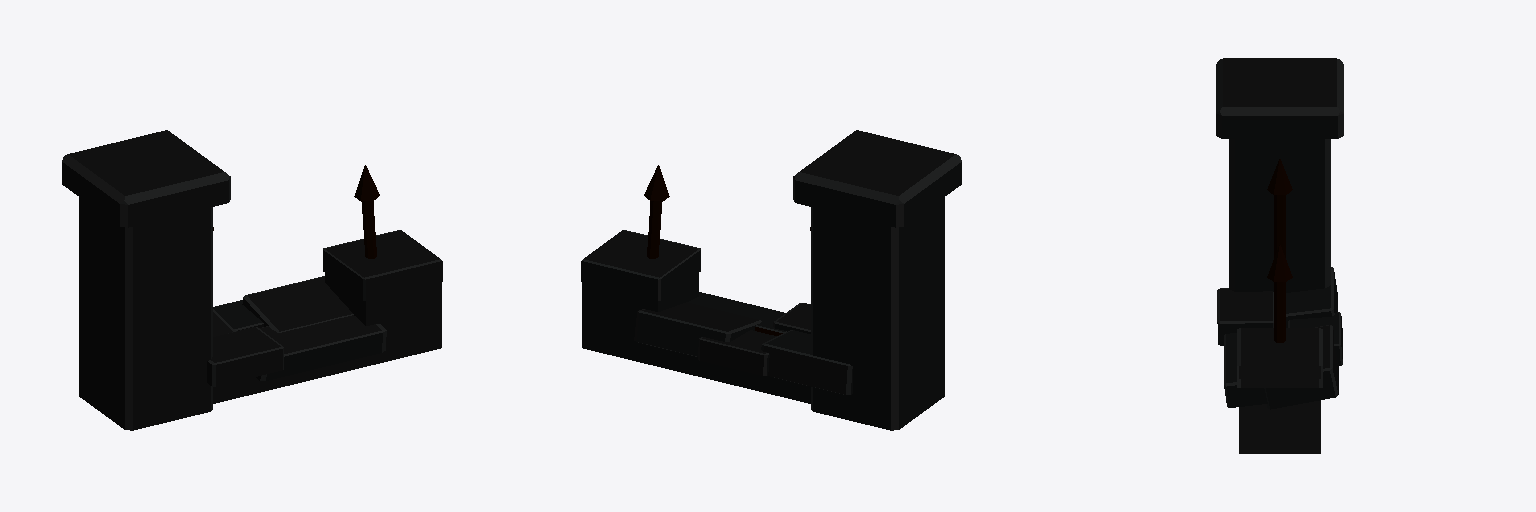
Rendered from Fence_02_Graveyard.obj.
3 views of the same model, side by side, from view 1: azimuth 30°, elevation 25°; view 2: azimuth 150°, elevation 25°; view 3: azimuth 270°, elevation 25° (orthographic).
Visible parts, largest first — view 1: Fence_02Graveyard_Circle.002; view 2: Fence_02Graveyard_Circle.002; view 3: Fence_02Graveyard_Circle.002.
Boxes of the visible parts, x1,y1,x2,y2 form: Fence_02Graveyard_Circle.002: [62, 130, 442, 430]; Fence_02Graveyard_Circle.002: [581, 130, 961, 430]; Fence_02Graveyard_Circle.002: [1216, 58, 1343, 453].
Bounding box in the file's own units: 4.81 × 3.33 × 1.62.